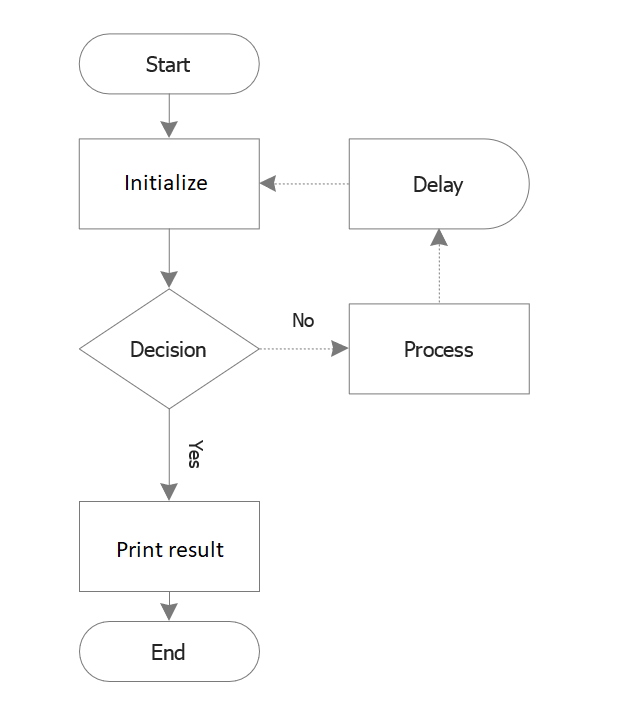arrow: (159, 404, 181, 501), (427, 225, 453, 306), (259, 173, 353, 194), (256, 340, 350, 356), (157, 226, 180, 290), (159, 89, 180, 138), (157, 590, 181, 623)
decision: (78, 286, 267, 409)
process: (344, 299, 535, 399), (344, 133, 533, 232), (77, 496, 266, 595), (77, 136, 266, 231)
terminator: (76, 618, 263, 685), (76, 30, 261, 96)
text: (112, 537, 228, 559), (127, 336, 208, 358), (123, 172, 207, 193), (401, 338, 476, 361), (410, 173, 466, 198), (139, 54, 192, 75), (149, 641, 193, 663), (185, 438, 205, 468), (291, 310, 316, 329)
